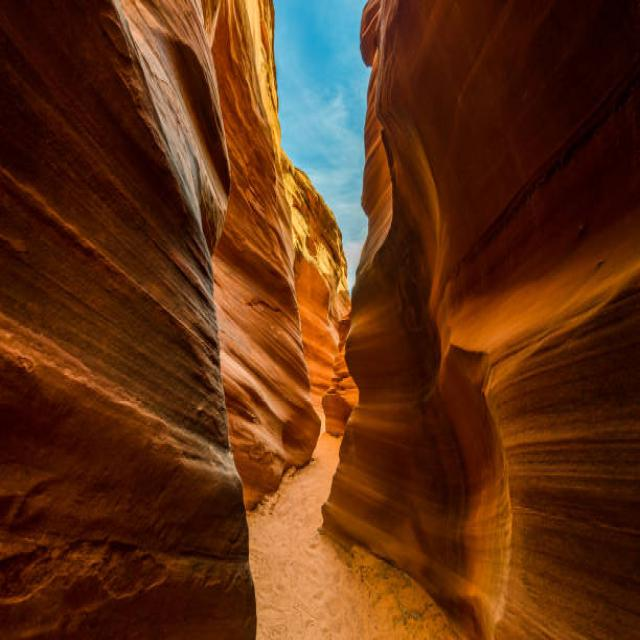Sedimentary: (1, 1, 340, 640), (344, 1, 640, 638)
